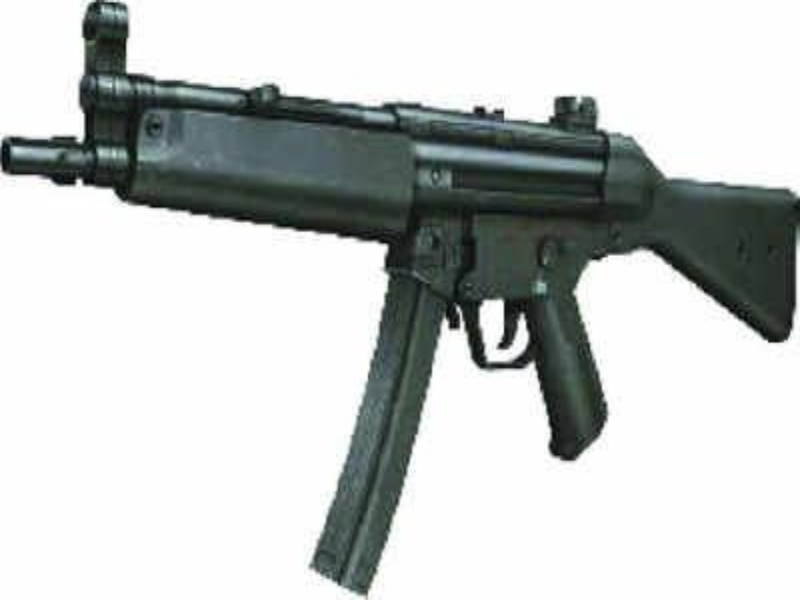gun: (3, 1, 800, 595)
